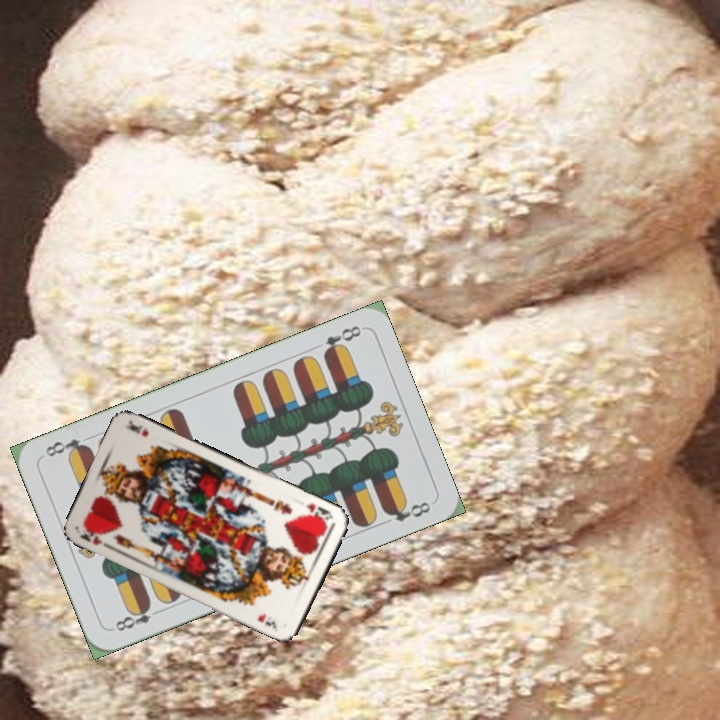E8: (108, 599, 165, 634), (319, 321, 364, 359)
HK: (76, 526, 114, 552), (302, 499, 335, 525)
